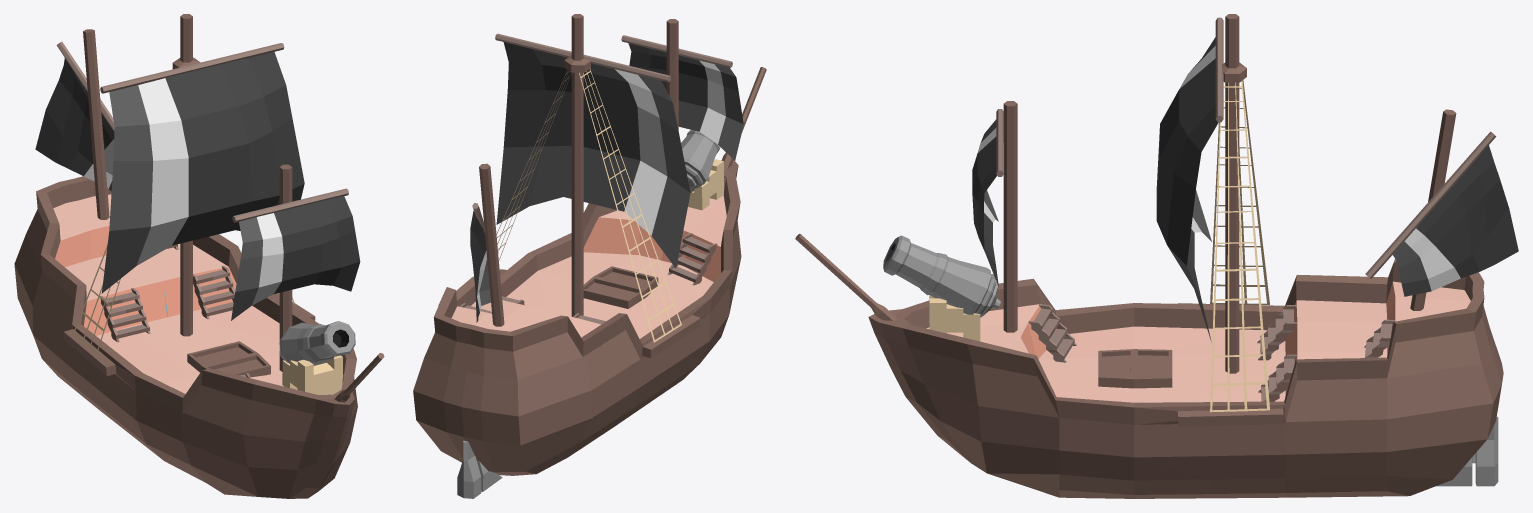
File: playerShip.fbx
3 views of the same model, side by side, from view 1: azimuth 30°, elevation 25°; view 2: azimuth 150°, elevation 25°; view 3: azimuth 270°, elevation 25° (orthographic). The views are drawn at different scales.
Parts seen in each view (by area): view 1: hullFront, sailMiddle, hullBack, sailFront, sailBack, cannon, mastBack, mastMiddle, cannonSeat, ladder.002, Cylinder.013, ladder.001 (+5 smaller); view 2: hullBack, sailMiddle, hullFront, sailFront, mastMiddle, ropes, mastBack, cannon, sailBack, rudder, ladder, Cylinder.013 (+4 smaller); view 3: hullBack, hullFront, sailBack, sailMiddle, ropes, mastMiddle, cannon, mastFront, sailFront, rudder, Cylinder.015, cannonSeat (+6 smaller).
Part boxes in pixels (left/top/right/bottom): hullFront: left=63, top=317, right=357, bottom=498; sailMiddle: left=101, top=52, right=304, bottom=293; hullBack: left=14, top=176, right=318, bottom=456; sailFront: left=231, top=196, right=360, bottom=320; sailBack: left=35, top=58, right=114, bottom=191; cannon: left=279, top=321, right=355, bottom=365; mastBack: left=83, top=29, right=109, bottom=219; mastMiddle: left=172, top=14, right=200, bottom=336; cannonSeat: left=282, top=355, right=342, bottom=394; ladder.002: left=100, top=288, right=150, bottom=342; Cylinder.013: left=100, top=43, right=284, bottom=93; ladder.001: left=193, top=265, right=235, bottom=319; hullBack: left=413, top=253, right=691, bottom=475; sailMiddle: left=496, top=42, right=690, bottom=268; hullFront: left=528, top=160, right=741, bottom=382; sailFront: left=628, top=43, right=743, bottom=160; mastMiddle: left=564, top=14, right=590, bottom=316; ropes: left=496, top=69, right=681, bottom=342; mastBack: left=479, top=163, right=504, bottom=326; cannon: left=681, top=129, right=720, bottom=192; sailBack: left=470, top=211, right=490, bottom=322; rudder: left=457, top=440, right=502, bottom=498; ladder: left=668, top=233, right=717, bottom=285; Cylinder.013: left=495, top=33, right=670, bottom=81; hullBack: left=1134, top=259, right=1503, bottom=497; hullFront: left=868, top=278, right=1284, bottom=498; sailBack: left=1393, top=145, right=1518, bottom=296; sailMiddle: left=1156, top=37, right=1218, bottom=341; ropes: left=1210, top=80, right=1269, bottom=412; mastMiddle: left=1222, top=14, right=1246, bottom=373; cannon: left=883, top=235, right=1000, bottom=317; mastFront: left=1003, top=101, right=1017, bottom=332; sailFront: left=972, top=119, right=998, bottom=286; rudder: left=1436, top=416, right=1498, bottom=486; Cylinder.015: left=1365, top=131, right=1496, bottom=278; cannonSeat: left=929, top=295, right=980, bottom=341.
Bounding box in the file's own units: 2.54 × 4.86 × 6.8.
